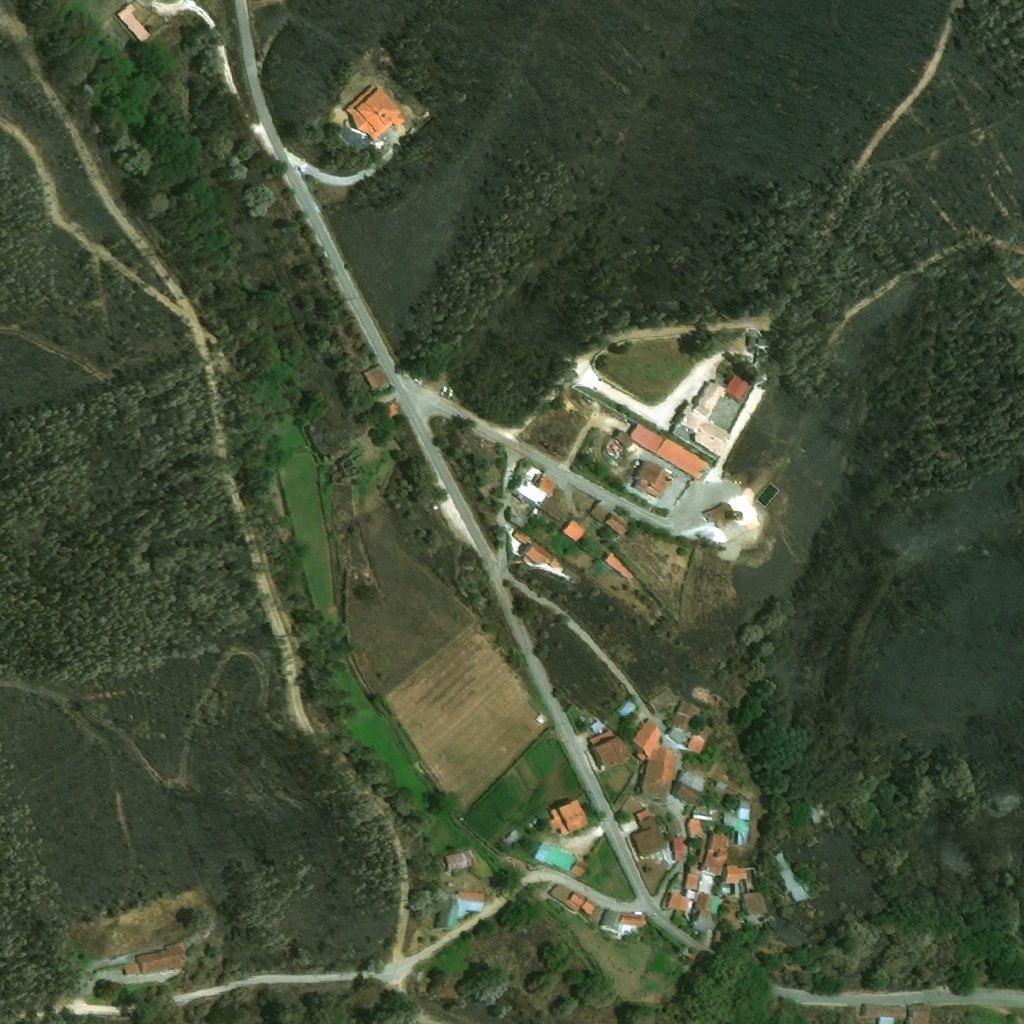0 no-damage: (345, 83, 406, 142), (678, 403, 733, 456), (655, 437, 710, 479), (772, 850, 813, 904), (677, 781, 719, 822), (136, 942, 186, 974), (588, 729, 629, 767), (646, 746, 677, 793), (634, 460, 671, 499), (633, 816, 668, 857), (115, 5, 149, 43), (701, 832, 731, 875), (533, 841, 576, 871), (518, 475, 558, 506), (694, 380, 727, 416), (629, 422, 667, 453), (724, 799, 749, 846), (632, 720, 663, 756), (547, 883, 580, 914), (525, 541, 561, 569), (677, 757, 705, 793), (557, 799, 588, 831), (606, 552, 635, 580), (861, 1005, 906, 1023), (704, 501, 733, 528), (431, 899, 455, 931), (692, 911, 719, 938), (648, 688, 676, 713), (364, 365, 390, 390), (727, 372, 751, 399), (548, 807, 571, 835), (444, 851, 475, 871), (707, 778, 732, 802), (564, 518, 586, 542), (741, 892, 766, 913), (606, 514, 630, 535), (661, 851, 683, 873), (902, 1004, 927, 1023), (457, 893, 483, 911), (616, 700, 638, 721), (599, 909, 618, 931), (566, 892, 590, 908), (695, 688, 719, 704), (677, 701, 701, 717), (590, 503, 609, 523), (726, 865, 747, 883), (746, 916, 769, 932), (686, 817, 701, 840), (501, 829, 520, 847), (668, 726, 687, 744), (751, 334, 771, 351), (688, 735, 705, 754), (698, 874, 714, 894), (615, 429, 633, 446), (673, 714, 692, 730), (668, 896, 688, 911), (383, 402, 400, 419), (571, 860, 587, 878), (665, 819, 682, 835), (580, 898, 595, 915), (620, 914, 643, 925), (514, 530, 532, 544), (686, 873, 700, 891), (590, 718, 606, 733), (698, 894, 711, 912), (711, 896, 723, 914), (123, 964, 137, 976), (671, 838, 683, 852), (536, 713, 547, 725), (685, 949, 696, 960), (636, 751, 646, 762), (430, 501, 440, 511), (686, 890, 695, 899), (534, 838, 543, 843)
3 destroyed: (384, 61, 398, 74)
4 un-classified: (810, 800, 828, 823), (466, 559, 479, 572), (578, 716, 590, 728)
